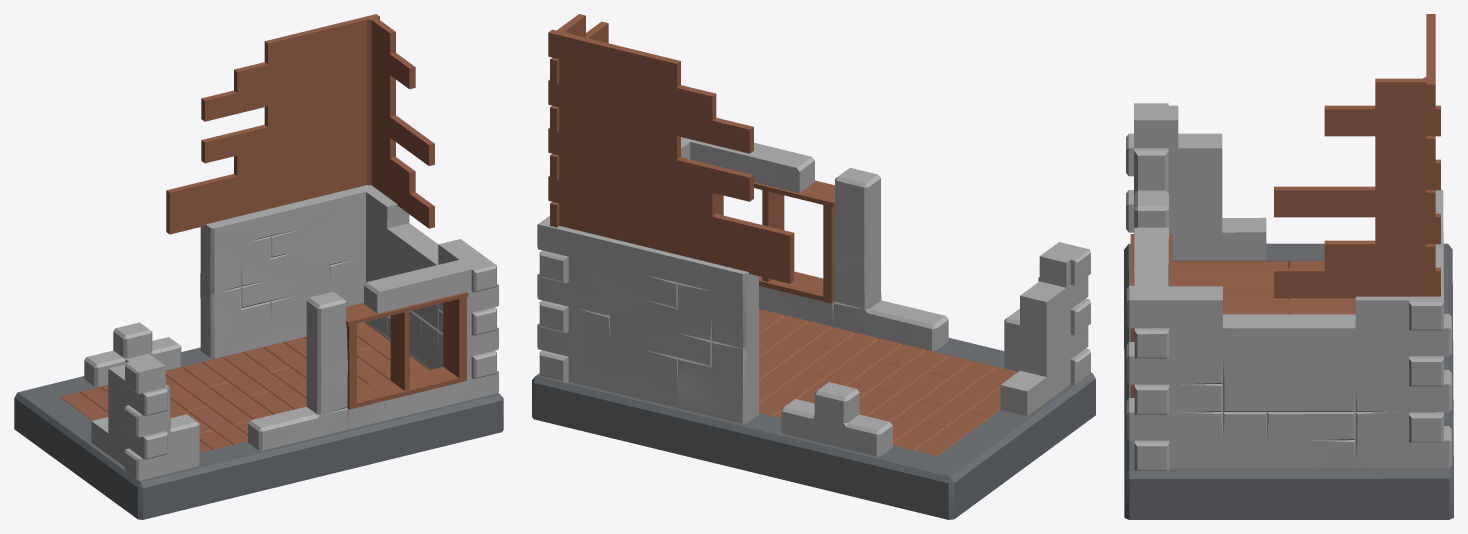
Rendered from LightWoodBuildingLargeConstructionWork1.fbx.
3 views of the same model, side by side, from view 1: azimuth 30°, elevation 25°; view 2: azimuth 150°, elevation 25°; view 3: azimuth 270°, elevation 25° (orthographic). The views are drawn at different scales.
Parts seen in each view (by area): view 1: LightWoodBuildingLargeConstructionWork1; view 2: LightWoodBuildingLargeConstructionWork1; view 3: LightWoodBuildingLargeConstructionWork1.
Part boxes in pixels (x1,y1,x2,y2): LightWoodBuildingLargeConstructionWork1: (14,14,503,519); LightWoodBuildingLargeConstructionWork1: (532,14,1095,519); LightWoodBuildingLargeConstructionWork1: (1124,14,1453,519).
Bounding box in the file's own units: 1031 × 892 × 621.
